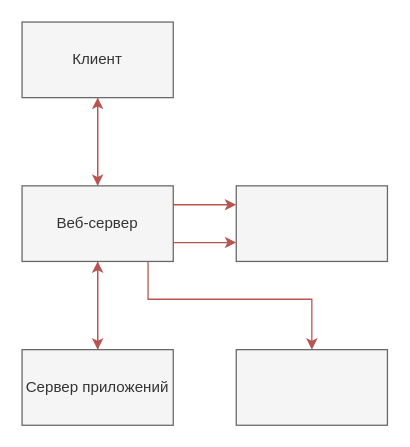
The diagram is 410 pixels wide and 447 high, and some of its shapes have lost their labels. The shapes that lost their labels are listed below. From the top down, each one's centre as x and y in pixels, then its label:
the point at 311,223: Бизнес логика организации
the point at 311,386: СУБД
